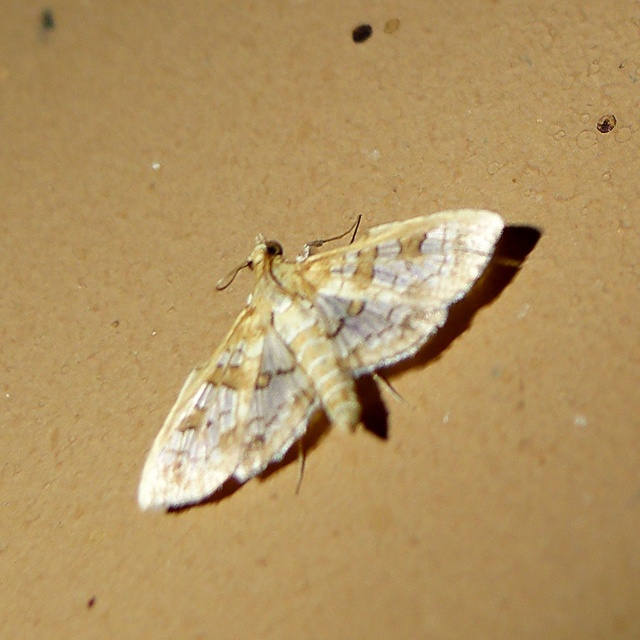Moths and butterflies: (144, 204, 511, 520)
